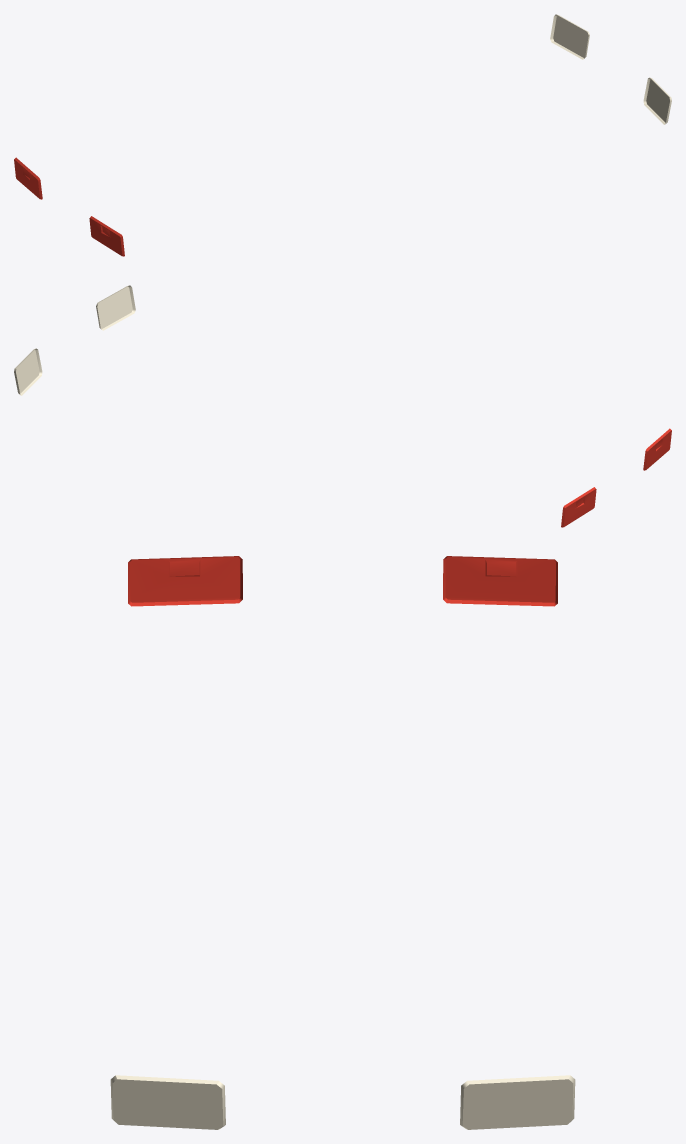
The model's file is vaz2107_taxi_lights.obj.
3 renders of one model, top to bottom at view 1: azimuth 30°, elevation 25°; view 2: azimuth 150°, elevation 25°; view 3: azimuth 270°, elevation 25°, orthographic. The views are drawn at different scales.
Parts seen in each view (by area): view 1: vaz2107_taxi_Headlight, vaz2107_taxi_Taillight; view 2: vaz2107_taxi_Headlight, vaz2107_taxi_Taillight; view 3: vaz2107_taxi_Headlight, vaz2107_taxi_Taillight.
Part boxes in pixels (left/top/right/bottom): vaz2107_taxi_Headlight: left=550, top=14, right=671, bottom=124; vaz2107_taxi_Taillight: left=14, top=157, right=124, bottom=256; vaz2107_taxi_Headlight: left=14, top=285, right=135, bottom=395; vaz2107_taxi_Taillight: left=561, top=428, right=671, bottom=527; vaz2107_taxi_Headlight: left=110, top=1075, right=575, bottom=1129; vaz2107_taxi_Taillight: left=128, top=556, right=557, bottom=606.
Bounding box in the file's own units: 4.03 × 0.2068 × 1.46.
Materials: 2 (2 with a texture image).
